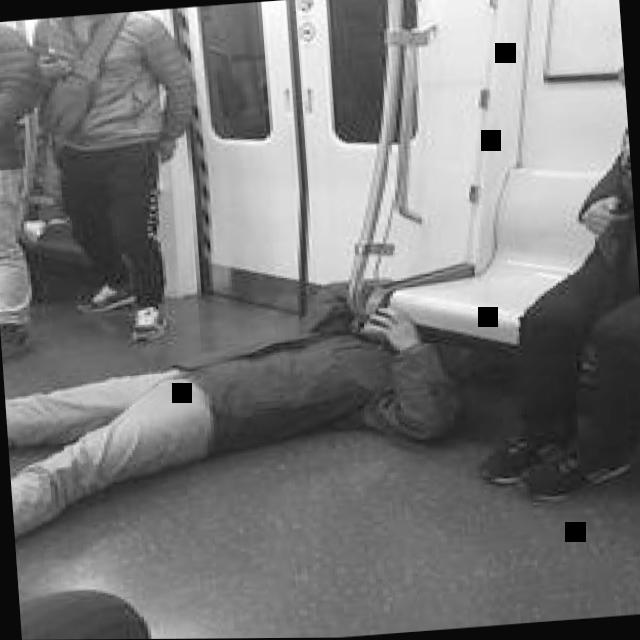Fall-Detected: (0, 252, 480, 566)
